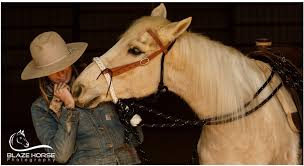Horse: (72, 8, 301, 164)
Person: (14, 26, 141, 165)
